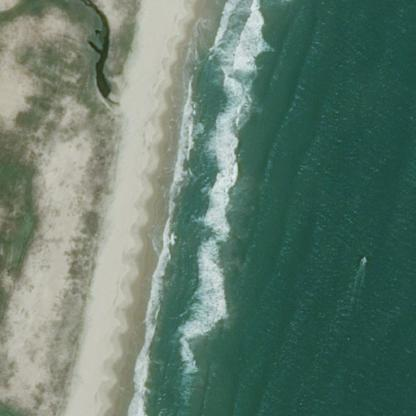ship: (354, 249, 370, 270)
